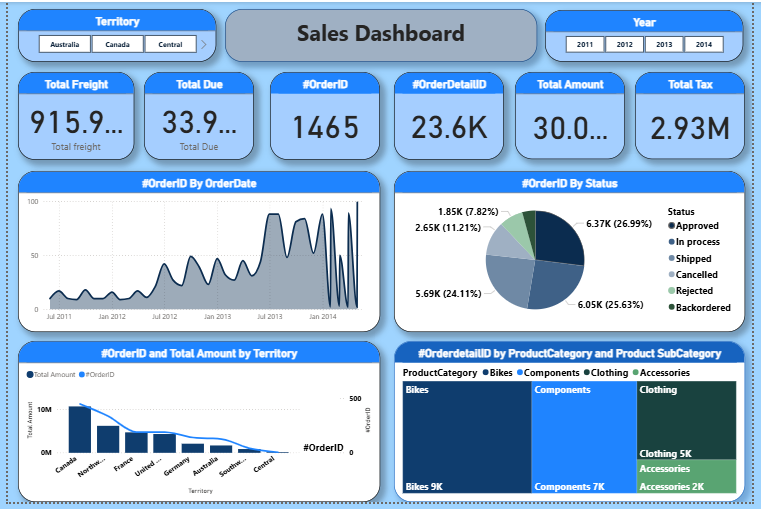

This screenshot's page, from the dashboard's own definition file:
{"tool":"powerbi","page":{"name":"Sales overview","canvas":[1280,860],"ordinal":0},"visuals":[{"type":"card","title":"#OrderDetailID","fields":{"Values":["Sales.#OrderdetailID"]},"box":[663.9,120.4,189.2,151.4],"z":0},{"type":"card","title":"#OrderID","fields":{"Values":["Sales.#OrderID"]},"box":[450.6,120.4,189.2,151.4],"z":1000},{"type":"card","title":"Total Amount","fields":{"Values":["Sales.Total Amount"]},"box":[872,120.4,189.2,149.6],"z":2000},{"type":"card","title":"Total Tax","fields":{"Values":["Sales.Total Tax"]},"box":[1078.4,120.4,189.2,149.6],"z":3000},{"type":"card","title":"Total Freight","fields":{"Values":["Sales.Total freight"]},"box":[17.2,120.4,199.5,151.4],"z":4000},{"type":"card","title":"Total Due","fields":{"Values":["Sales.Total Due"]},"box":[233.9,120.4,189.2,151.4],"z":5000},{"type":"pieChart","title":"#OrderID By Status","fields":{"Y":["CountNonNull(Sales.OrderID)"],"Category":["Sales.Status"]},"box":[663.9,290.7,603.7,276.9],"z":6000},{"type":"lineChart","title":"#OrderID By OrderDate","fields":{"Y":["Measures (2).#OrderID"],"Category":["Sales.OrderDate"]},"box":[17.2,290.7,622.6,276.9],"z":7000},{"type":"lineClusteredColumnComboChart","title":" #OrderID and Total Amount by Territory","fields":{"Category":["Sales.Territory"],"Y2":["Measures (2).#OrderID"],"Y":["Measures (2).Total Amount"]},"box":[17.2,583.1,622.6,276.9],"z":8000},{"type":"treemap","title":"#OrderdetailID by ProductCategory and Product SubCategory","fields":{"Group":["Sales.ProductSubCategory","Sales.ProductCategory","Sales.Product"],"Details":["Sales.ProductCategory"],"Values":["Measures (2).#OrderdetailID"]},"box":[663.9,583.1,603.7,276.9],"z":9000},{"type":"textbox","title":"Sales Dashboard","box":[373.2,12,536.6,91.2],"z":10000},{"type":"slicer","title":"Territory","fields":{"Values":["Sales.Territory"]},"box":[17.2,12,340.6,91.2],"z":10001},{"type":"slicer","title":"Year","fields":{"Values":["Sales.DueDate.Variation.Date Hierarchy.Year"]},"box":[923.6,13.8,340.6,89.4],"z":10002}]}

Visuals, with their boxes in screenshot pixels (x1, y1, x2, y2), scaled from the page's 1280x860 canvas onto the 761x509 screenshot:
"#OrderDetailID" card: [x1=395, y1=71, x2=507, y2=161]
"#OrderID" card: [x1=268, y1=71, x2=380, y2=161]
"Total Amount" card: [x1=518, y1=71, x2=631, y2=160]
"Total Tax" card: [x1=641, y1=71, x2=754, y2=160]
"Total Freight" card: [x1=10, y1=71, x2=129, y2=161]
"Total Due" card: [x1=139, y1=71, x2=252, y2=161]
"#OrderID By Status" pieChart: [x1=395, y1=172, x2=754, y2=336]
"#OrderID By OrderDate" lineChart: [x1=10, y1=172, x2=380, y2=336]
" #OrderID and Total Amount by Territory" lineClusteredColumnComboChart: [x1=10, y1=345, x2=380, y2=508]
"#OrderdetailID by ProductCategory and Product SubCategory" treemap: [x1=395, y1=345, x2=754, y2=508]
"Sales Dashboard" textbox: [x1=222, y1=7, x2=541, y2=61]
"Territory" slicer: [x1=10, y1=7, x2=213, y2=61]
"Year" slicer: [x1=549, y1=8, x2=752, y2=61]
